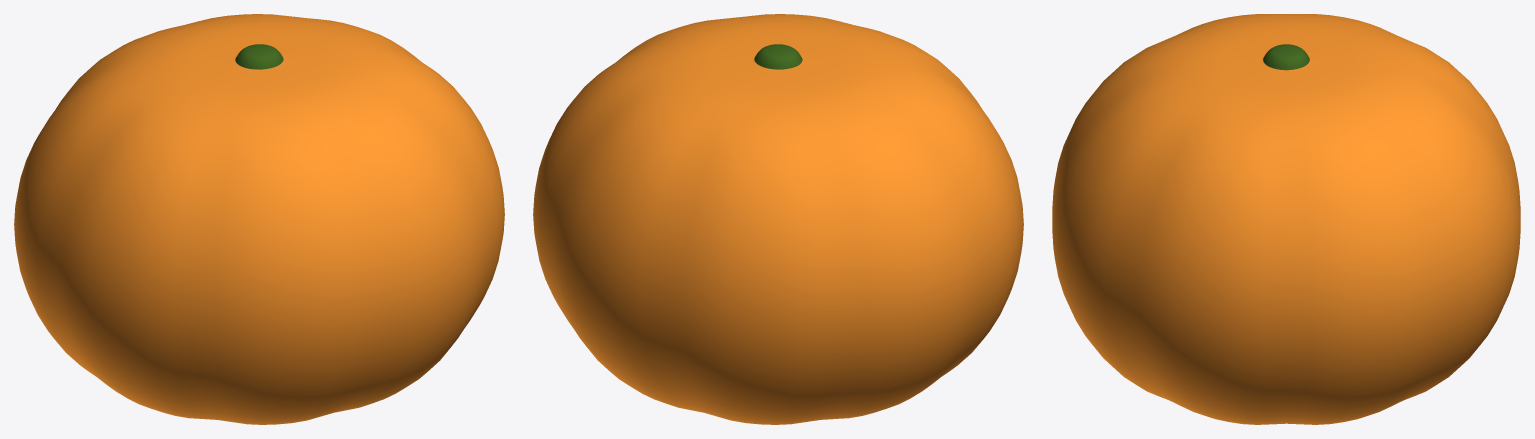
The model's file is orange.fbx.
3 renders of one model, left to right at view 1: azimuth 30°, elevation 25°; view 2: azimuth 150°, elevation 25°; view 3: azimuth 270°, elevation 25°, orthographic.
Parts seen in each view (by area): view 1: 球; view 2: 球; view 3: 球.
Boxes of the visible parts, left/top/right/bottom form: 球: left=14, top=14, right=504, bottom=424; 球: left=533, top=14, right=1023, bottom=424; 球: left=1052, top=14, right=1520, bottom=424.
Size of the model in its own units: 353 by 272 by 339.
Materials: 1 (1 with a texture image).
